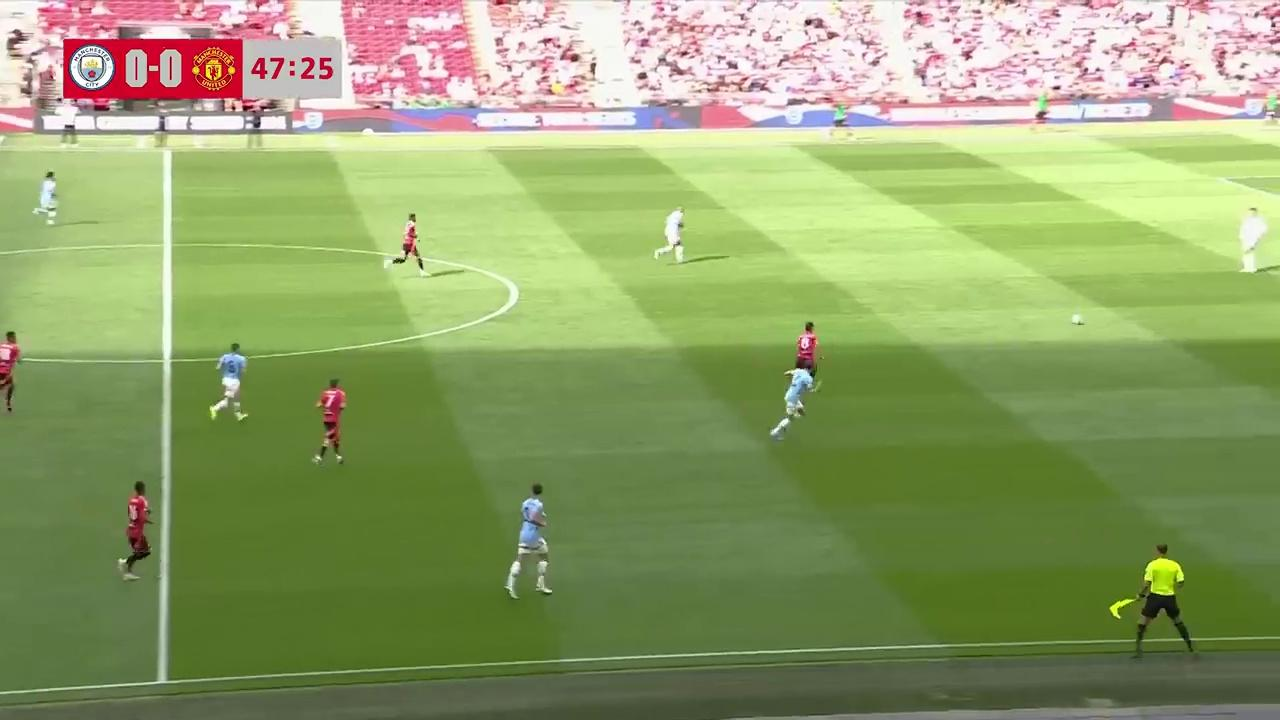ball: (1070, 310, 1085, 326)
player: (504, 481, 553, 597), (118, 480, 153, 580), (208, 341, 249, 421), (769, 361, 808, 441), (312, 377, 346, 466), (386, 212, 425, 272), (794, 321, 823, 393), (1238, 206, 1267, 273), (654, 206, 685, 263), (0, 330, 21, 414), (33, 171, 58, 224)
referee: (1113, 543, 1195, 658)
